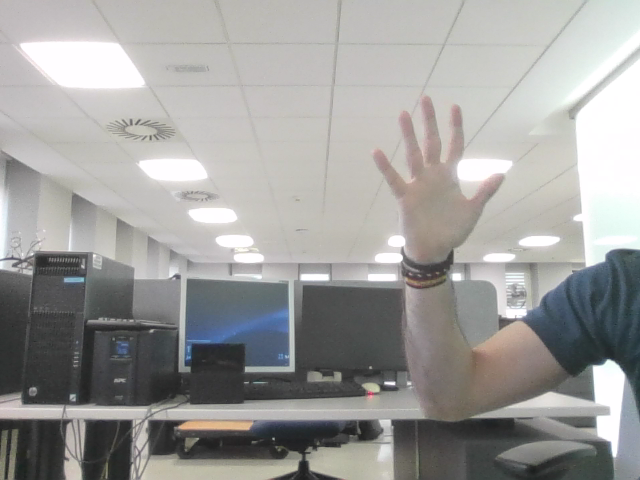Mano Abierta: (383, 109, 492, 225)
